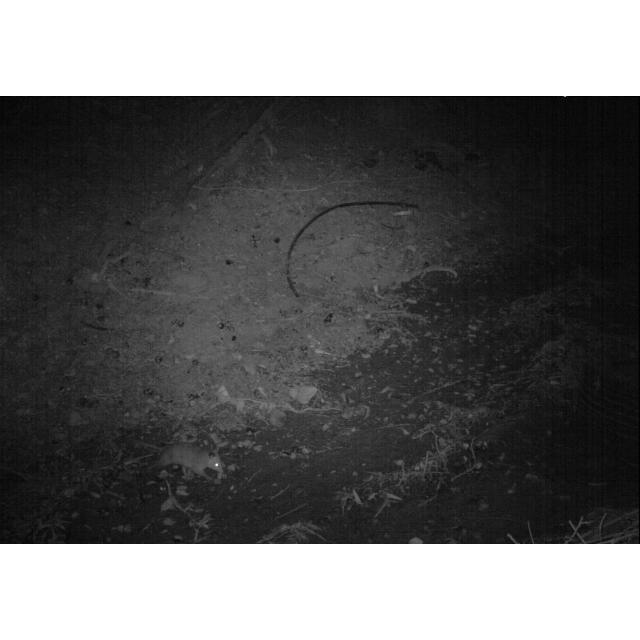animals: (160, 434, 228, 478)
